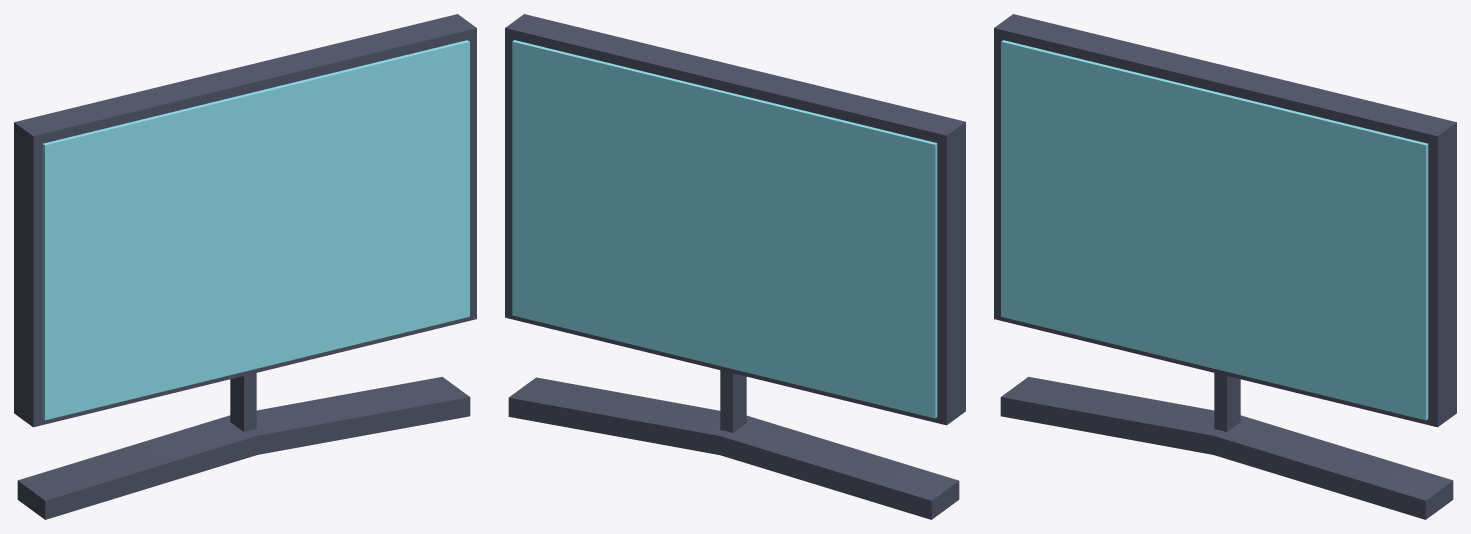
The picture shows the model from 3 angles, left to right: view 1: azimuth 30°, elevation 25°; view 2: azimuth 150°, elevation 25°; view 3: azimuth 330°, elevation 25°; orthographic projection.
Visible parts, largest first — view 1: 3pk1; view 2: 3pk1; view 3: 3pk1.
Part boxes in pixels (left/top/right/bottom): 3pk1: left=14, top=14, right=476, bottom=519; 3pk1: left=505, top=14, right=965, bottom=519; 3pk1: left=994, top=14, right=1456, bottom=519.
Size of the model in its own units: 34.6 by 28.61 by 3.75.
